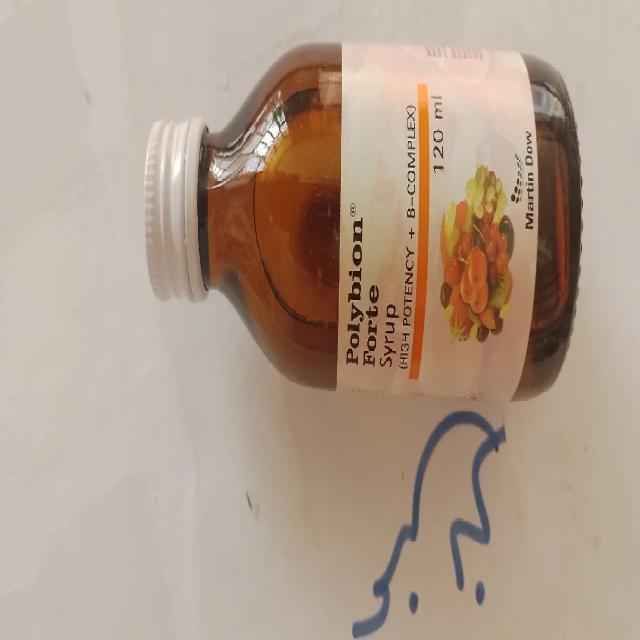drug-name: (345, 216, 381, 366)
